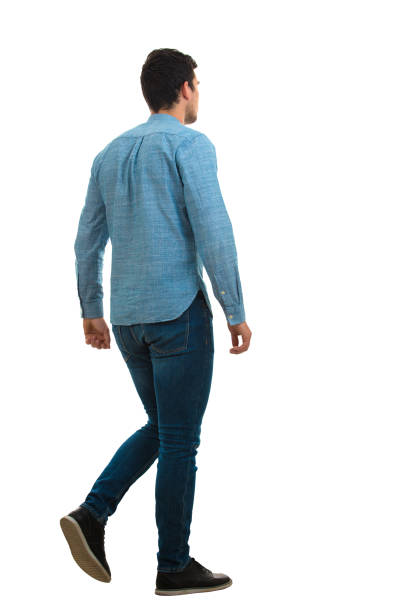Male: (35, 43, 261, 597)
